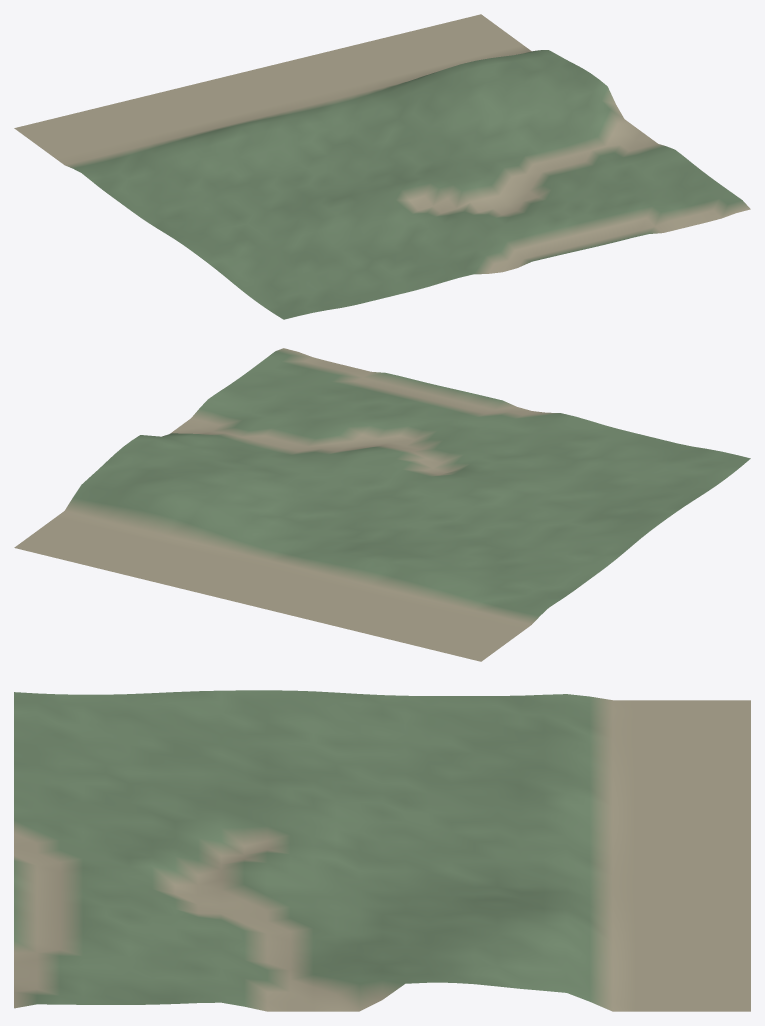
The picture shows the model from 3 angles, top to bottom: view 1: azimuth 30°, elevation 25°; view 2: azimuth 150°, elevation 25°; view 3: azimuth 270°, elevation 25°; orthographic projection. The views are drawn at different scales.
Visible parts, largest first — view 1: Terrain-col; view 2: Terrain-col; view 3: Terrain-col.
Part boxes in pixels (x1,y1,x2,y2): Terrain-col: (14, 14, 750, 319); Terrain-col: (14, 348, 750, 661); Terrain-col: (14, 690, 750, 1011).
Bounding box in the file's own units: 256 × 11.36 × 256.
